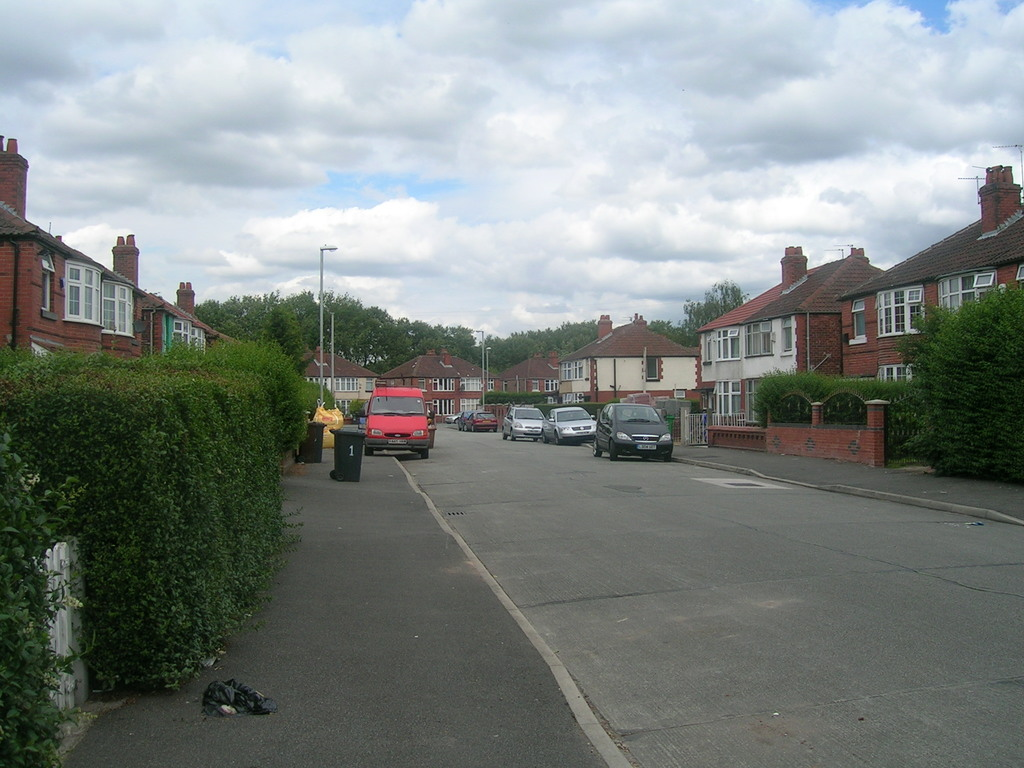cars: (591, 402, 683, 458), (541, 403, 597, 445), (496, 404, 543, 439), (464, 408, 502, 432), (446, 410, 466, 424)
